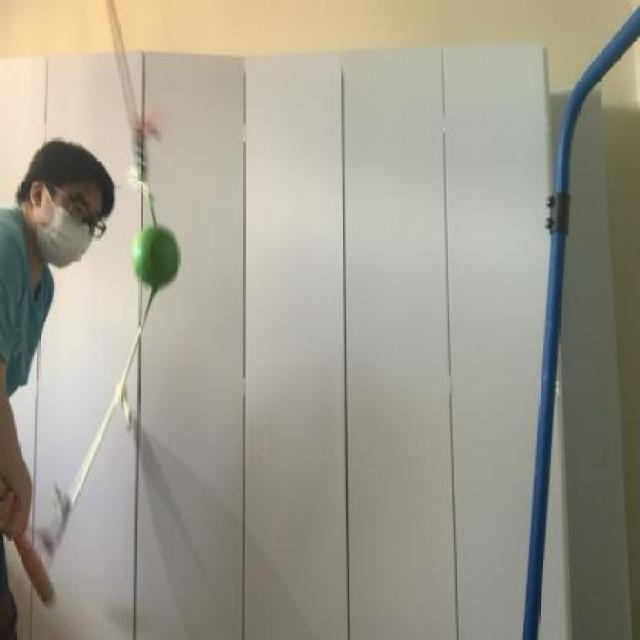baseball: (130, 212, 181, 298)
